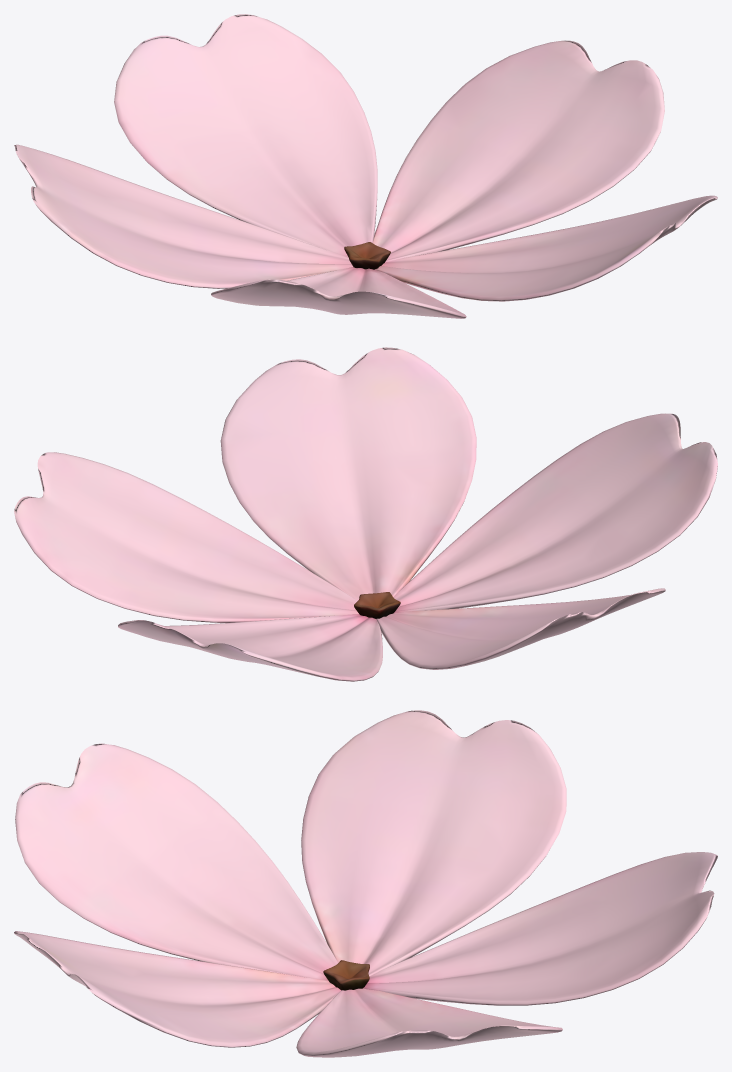
The model's file is cartoon_sakura.glb.
3 views of the same model, one above another, from view 1: azimuth 30°, elevation 25°; view 2: azimuth 150°, elevation 25°; view 3: azimuth 270°, elevation 25° (orthographic). The views are drawn at different scales.
Parts seen in each view (by area): view 1: Sakura_Sakura_Material_0; view 2: Sakura_Sakura_Material_0; view 3: Sakura_Sakura_Material_0.
Part boxes in pixels (x1,y1,x2,y2): Sakura_Sakura_Material_0: (14,14,717,318); Sakura_Sakura_Material_0: (14,347,717,681); Sakura_Sakura_Material_0: (14,710,717,1057).
Bounding box in the file's own units: 0.0933 × 0.0195 × 0.0899.
1 material, 1 textured.
